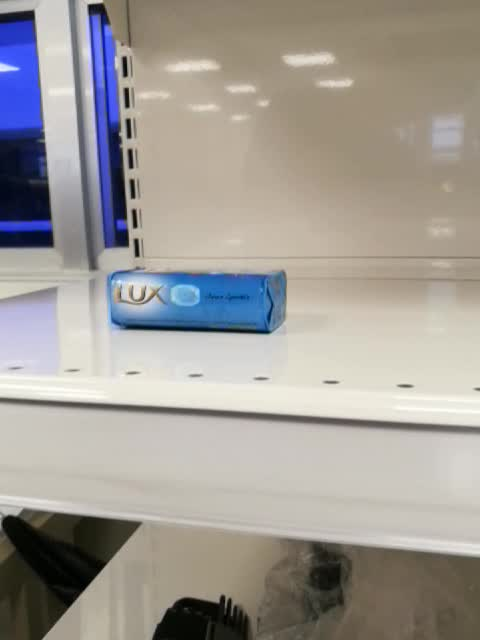soap: (108, 267, 289, 334)
